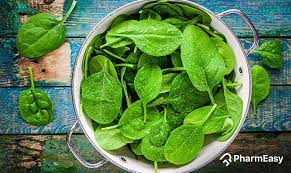spinach: (112, 30, 211, 143)
